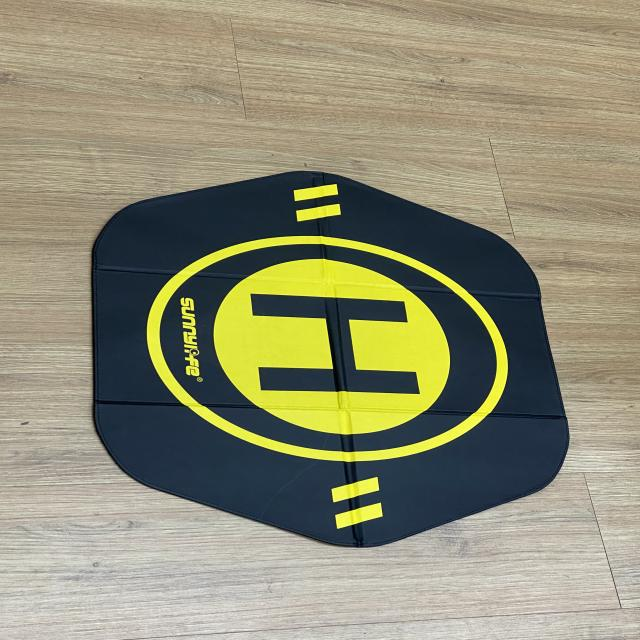helipad: (134, 228, 516, 470)
